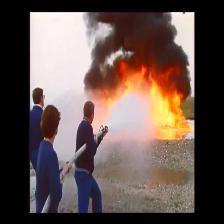fire: (154, 90, 183, 138), (124, 68, 155, 88)
smoke: (108, 12, 183, 71)
